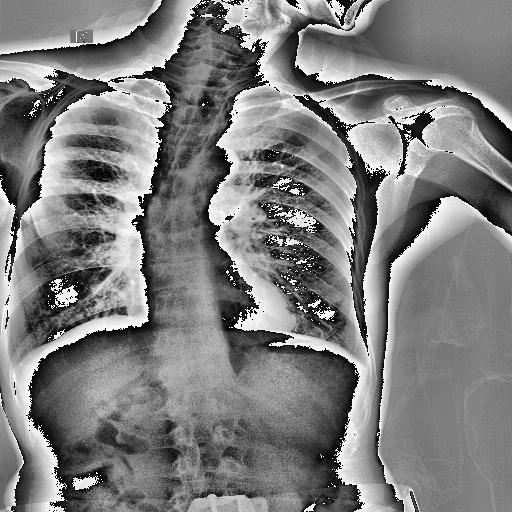6- Infiltration: (34, 121, 71, 187)
7- Lung Opacity: (40, 142, 68, 196)
9- Other lesion: (136, 125, 226, 339), (142, 174, 228, 336)
